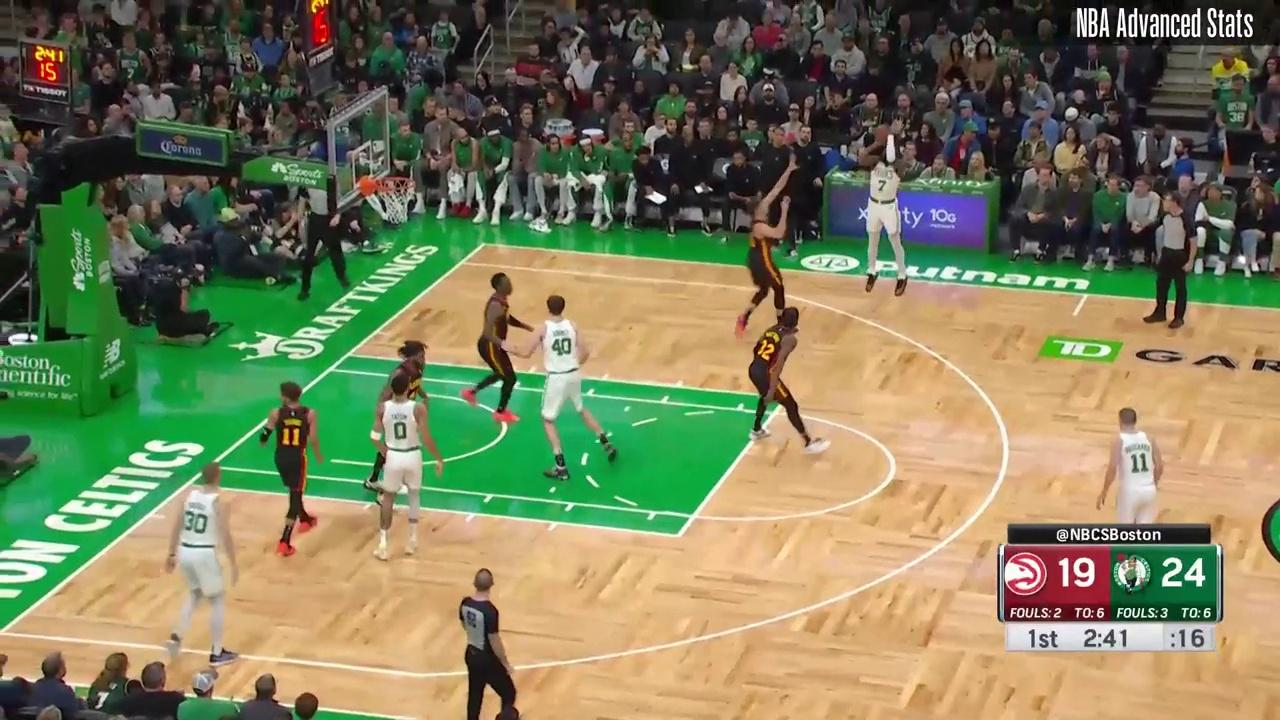3_dx: (459, 260, 465, 265)
3_sx: (0, 629, 5, 637)
b_dx: (482, 241, 487, 246)
free_asx: (676, 532, 682, 539)
free_bdx: (346, 351, 352, 357)
free_bsx: (185, 480, 192, 487)
mid_dx: (1072, 312, 1077, 318)
referee: (458, 568, 519, 720), (1141, 191, 1198, 330), (296, 165, 350, 301)
team: (501, 296, 618, 481), (165, 461, 239, 668), (370, 374, 444, 561), (1095, 407, 1165, 524), (858, 137, 909, 297)
team1: (748, 306, 831, 456), (734, 154, 800, 336), (459, 272, 534, 423), (259, 381, 323, 557), (364, 339, 429, 510)
timer: (1080, 626, 1132, 652)
